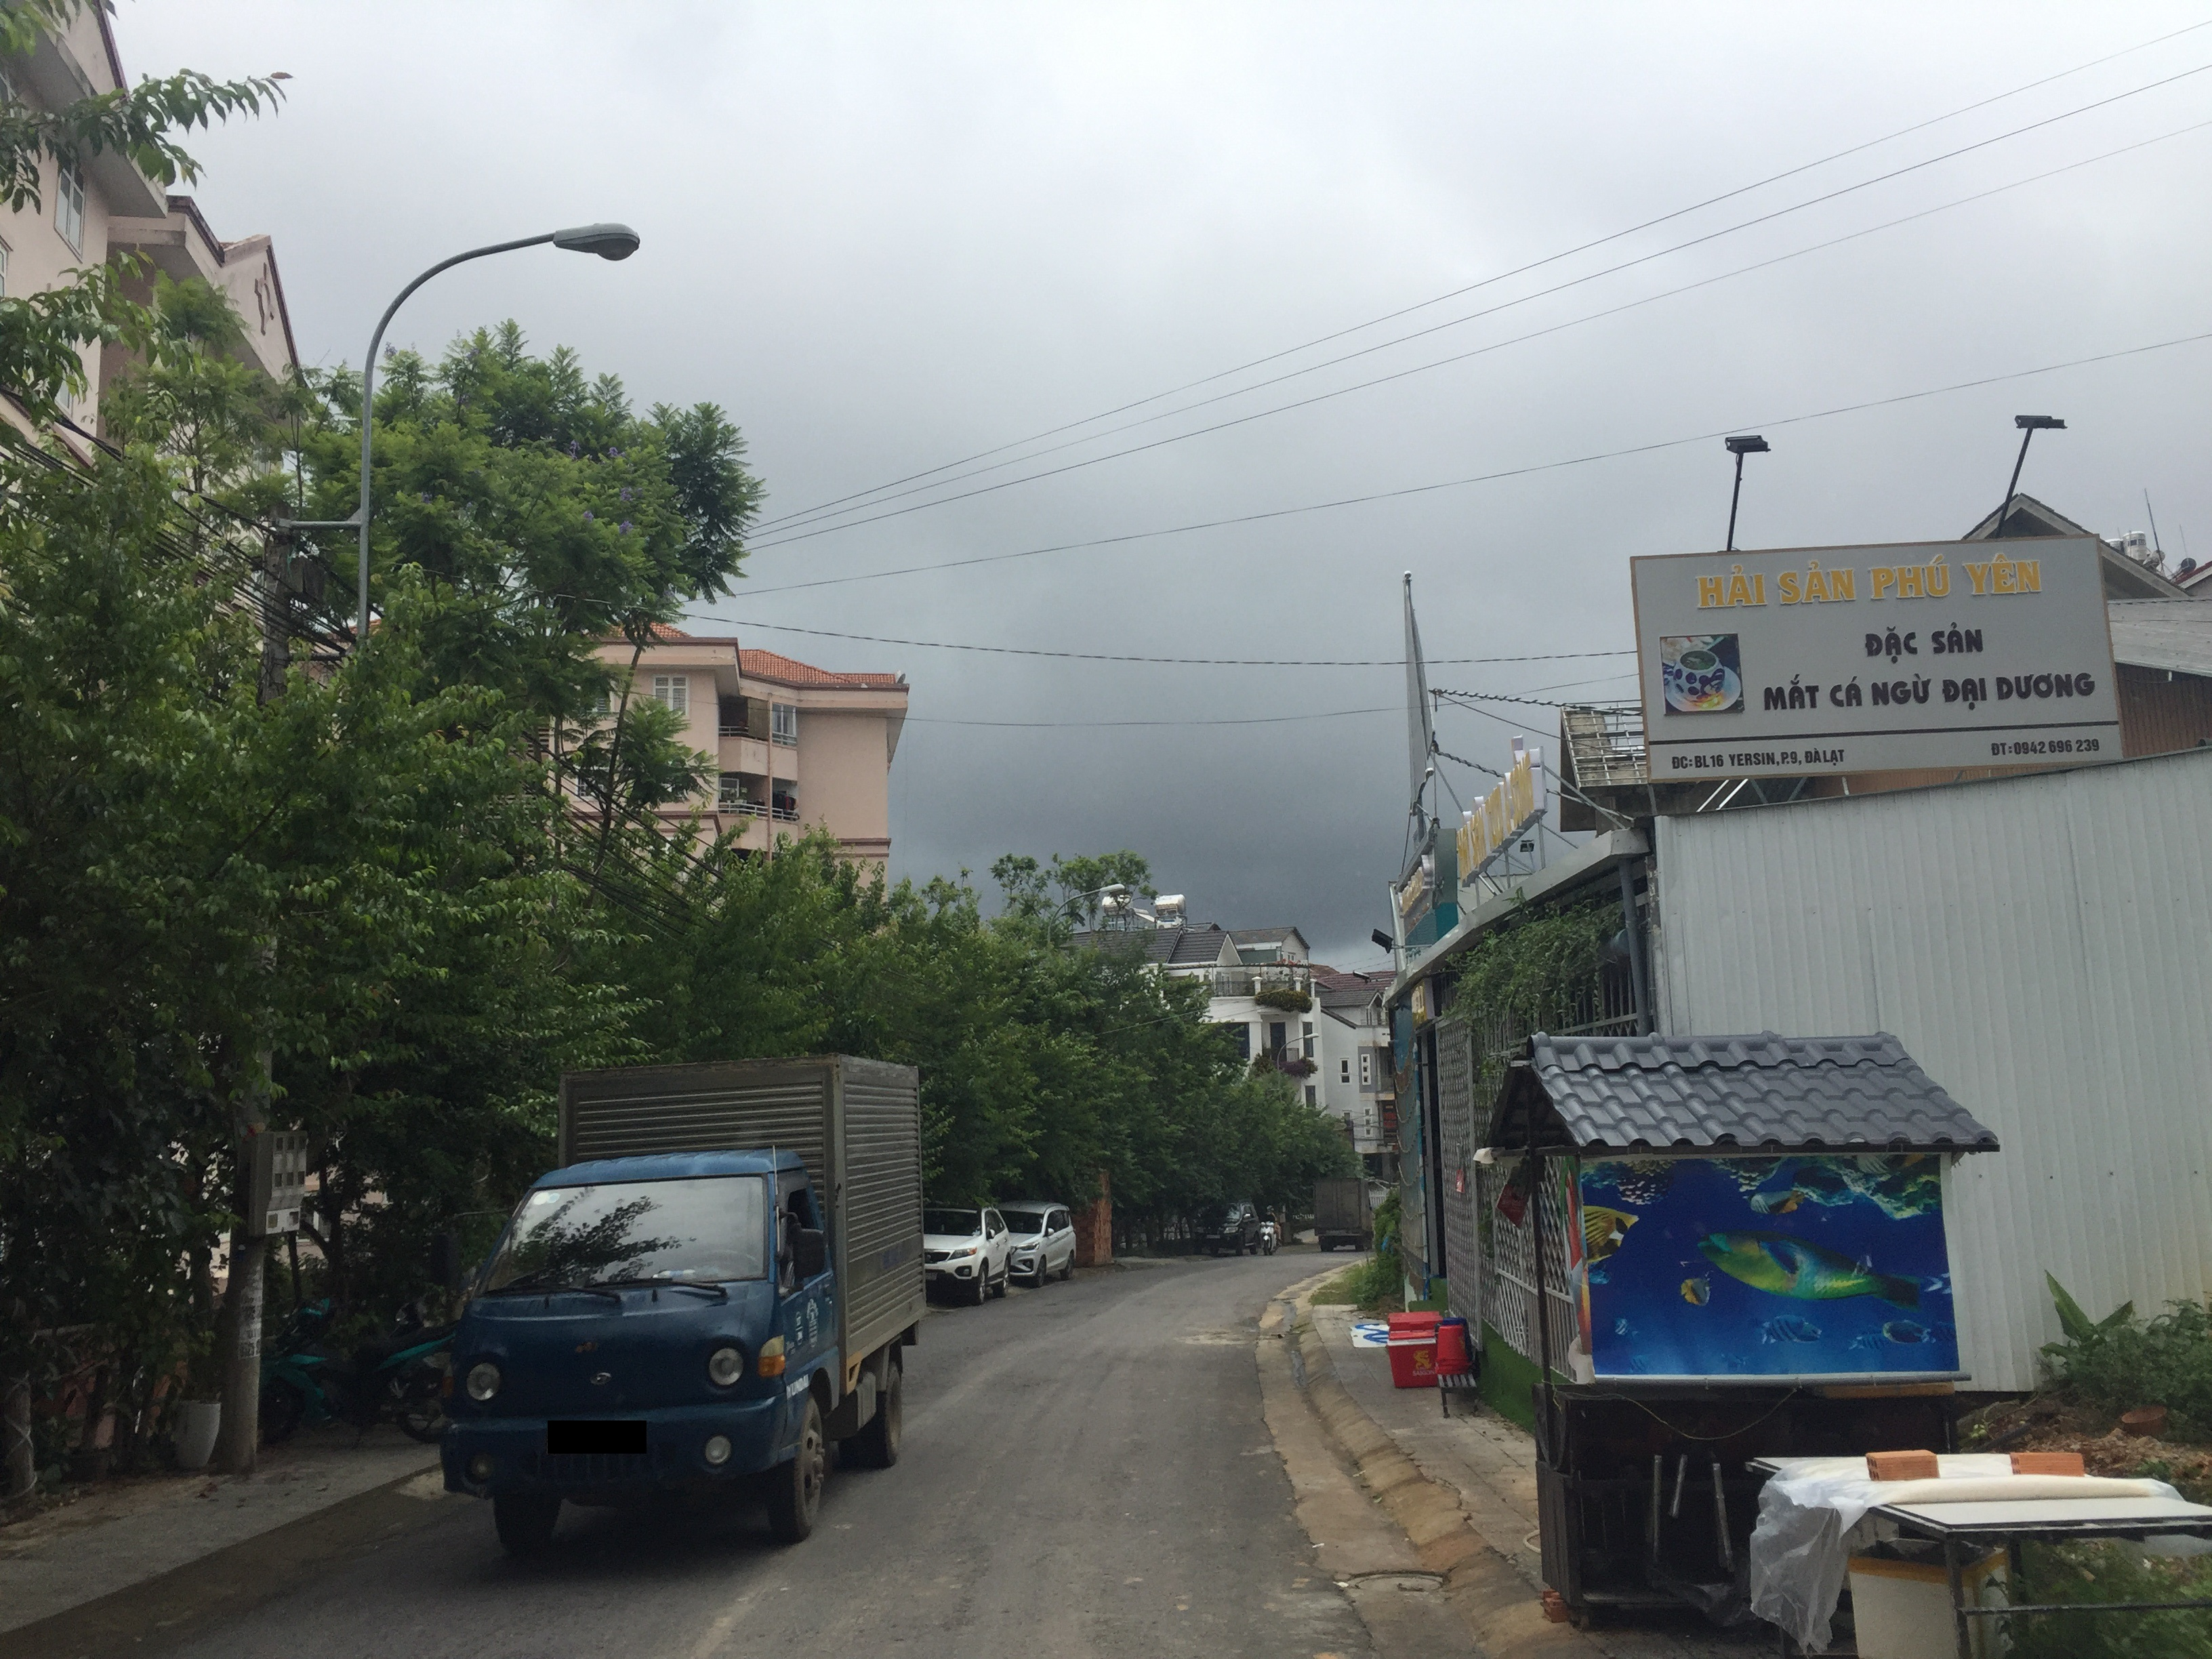hole: (1341, 1570, 1451, 1591)
